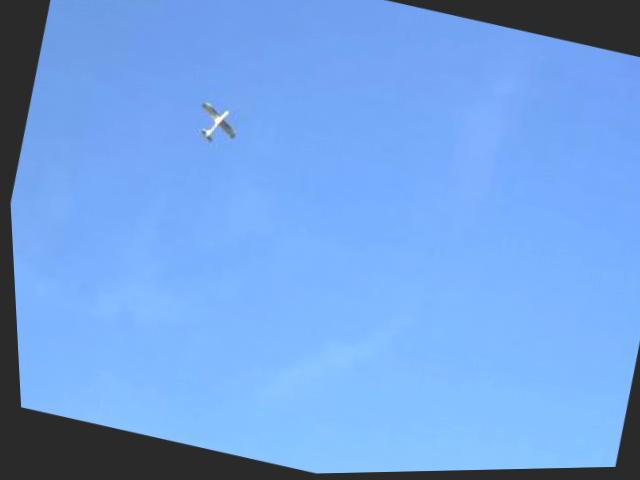uav: (190, 102, 239, 150)
